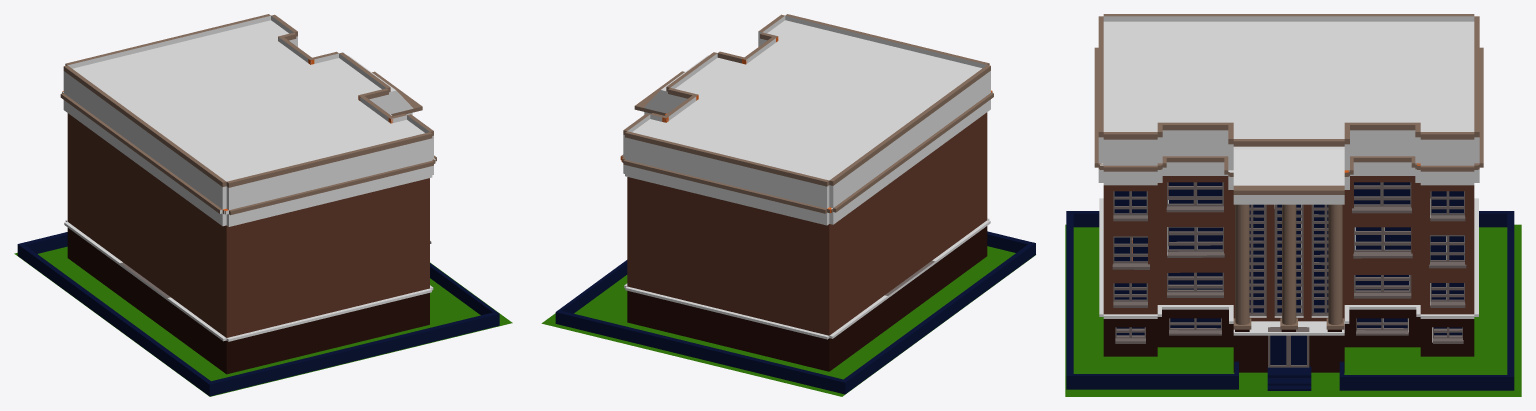
Rendered from Szkoła1.0.fbx.
3 views of the same model, side by side, from view 1: azimuth 30°, elevation 25°; view 2: azimuth 150°, elevation 25°; view 3: azimuth 270°, elevation 25° (orthographic). The views are drawn at different scales.
Parts seen in each view (by area): view 1: oknoultramałe.001; view 2: oknoultramałe.001; view 3: oknoultramałe.001.
Part boxes in pixels (bbox=[...]): oknoultramałe.001: bbox=[14, 14, 512, 396]; oknoultramałe.001: bbox=[541, 14, 1035, 396]; oknoultramałe.001: bbox=[1065, 14, 1521, 396].
Bounding box in the file's own units: 1870 × 1150 × 2094.
